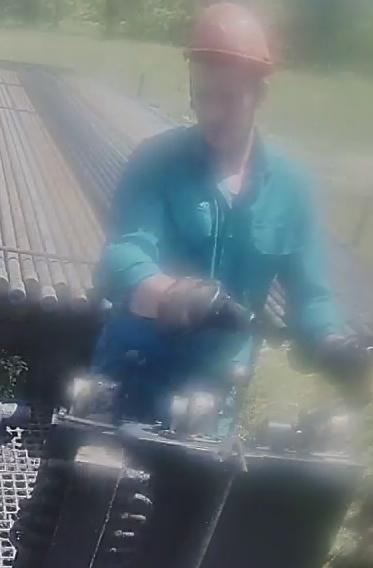gloves: (149, 268, 232, 344), (316, 330, 373, 412)
helmet: (184, 2, 274, 73)
vest: (109, 125, 315, 370)
